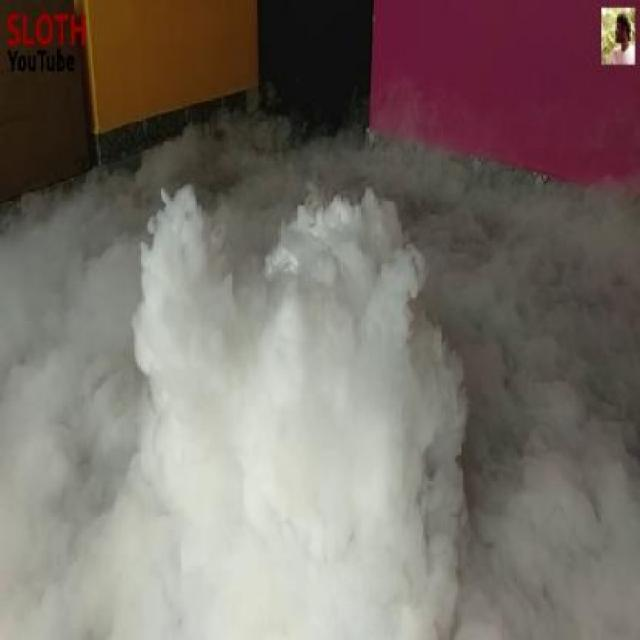smoke: (63, 178, 557, 592)
